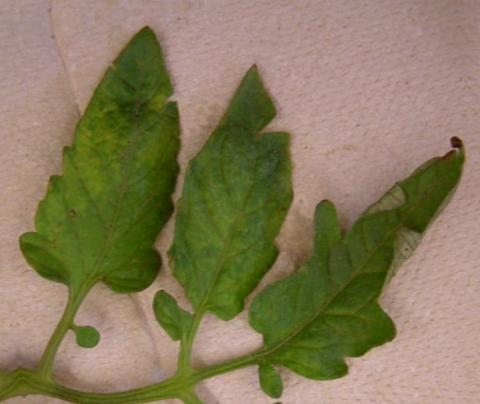Tomato leaf mosaic virus: (231, 132, 480, 390), (0, 16, 207, 317), (150, 60, 303, 318)
